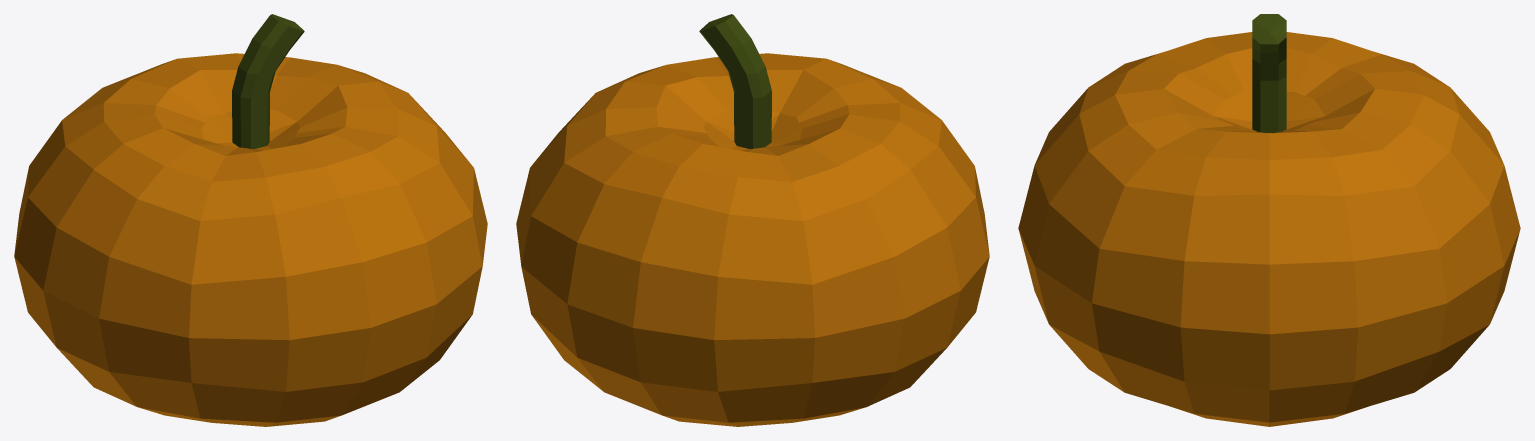
Rendered from pumpking.fbx.
The picture shows the model from 3 angles, left to right: view 1: azimuth 30°, elevation 25°; view 2: azimuth 150°, elevation 25°; view 3: azimuth 270°, elevation 25°; orthographic projection. The views are drawn at different scales.
Visible parts, largest first — view 1: pumpking; view 2: pumpking; view 3: pumpking.
Boxes of the visible parts, left/top/right/bottom form: pumpking: left=14, top=14, right=487, bottom=426; pumpking: left=516, top=14, right=989, bottom=426; pumpking: left=1018, top=14, right=1520, bottom=426.
Bounding box in the file's own units: 89.32 × 71.78 × 89.32.
